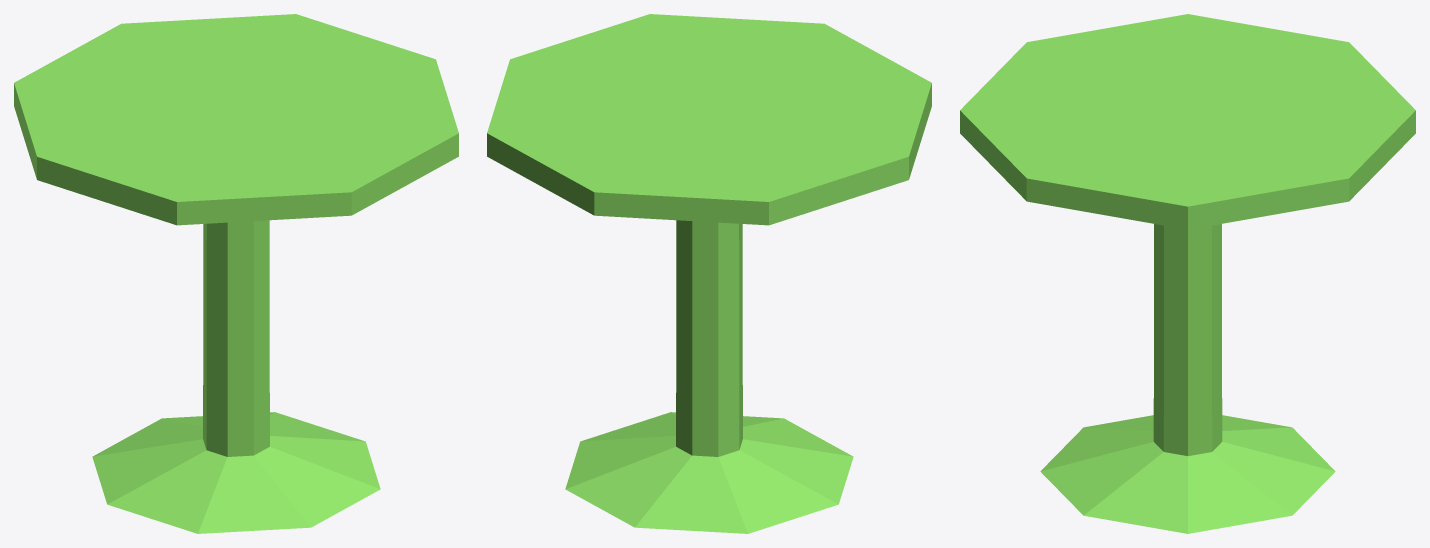
The model's file is Table.fbx.
3 views of the same model, side by side, from view 1: azimuth 30°, elevation 25°; view 2: azimuth 150°, elevation 25°; view 3: azimuth 270°, elevation 25° (orthographic).
Parts seen in each view (by area): view 1: Table; view 2: Table; view 3: Table.
Part boxes in pixels (x1=…): Table: x1=14, y1=14, x2=458, y2=533; Table: x1=487, y1=14, x2=931, y2=533; Table: x1=960, y1=14, x2=1415, y2=533.
Size of the model in its own units: 0.7054 by 0.6167 by 0.7054.
